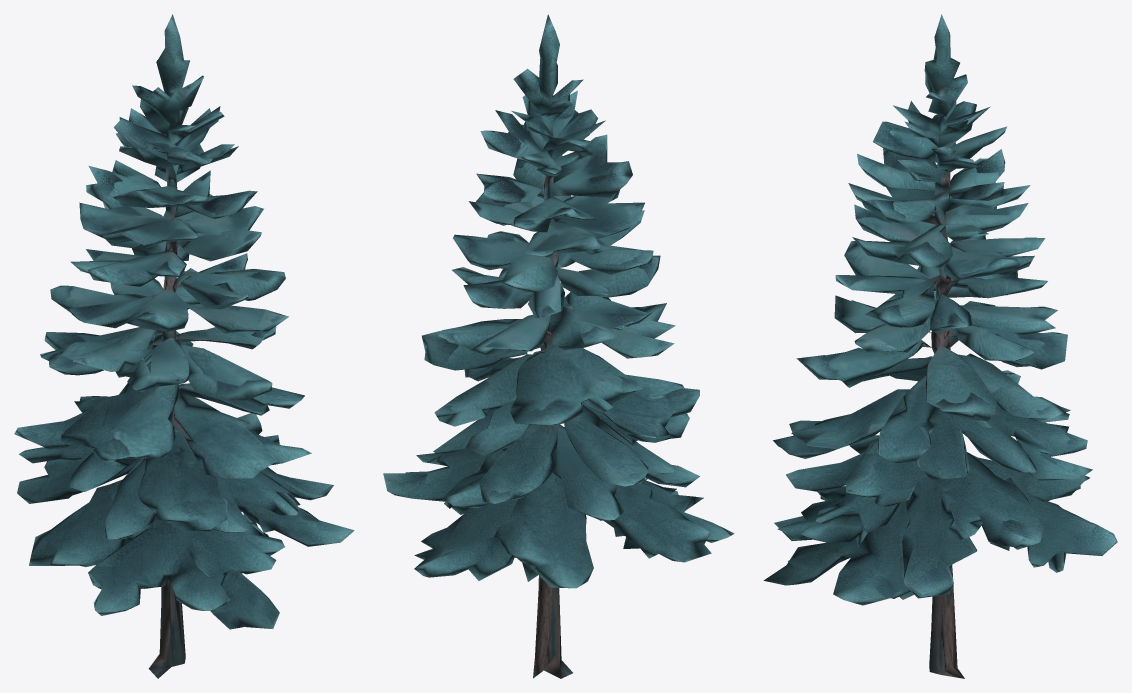
Rendered from prp_pine_fir_a.glb.
3 views of the same model, side by side, from view 1: azimuth 30°, elevation 25°; view 2: azimuth 150°, elevation 25°; view 3: azimuth 270°, elevation 25° (orthographic).
Parts seen in each view (by area): view 1: prp_pine_fir_a; view 2: prp_pine_fir_a; view 3: prp_pine_fir_a.
Boxes of the visible parts, x1=… form: prp_pine_fir_a: x1=14, y1=14, x2=354, y2=678; prp_pine_fir_a: x1=383, y1=14, x2=734, y2=678; prp_pine_fir_a: x1=763, y1=14, x2=1117, y2=678.
Size of the model in its own units: 6.82 by 14 by 6.77.
1 material, 1 textured.
